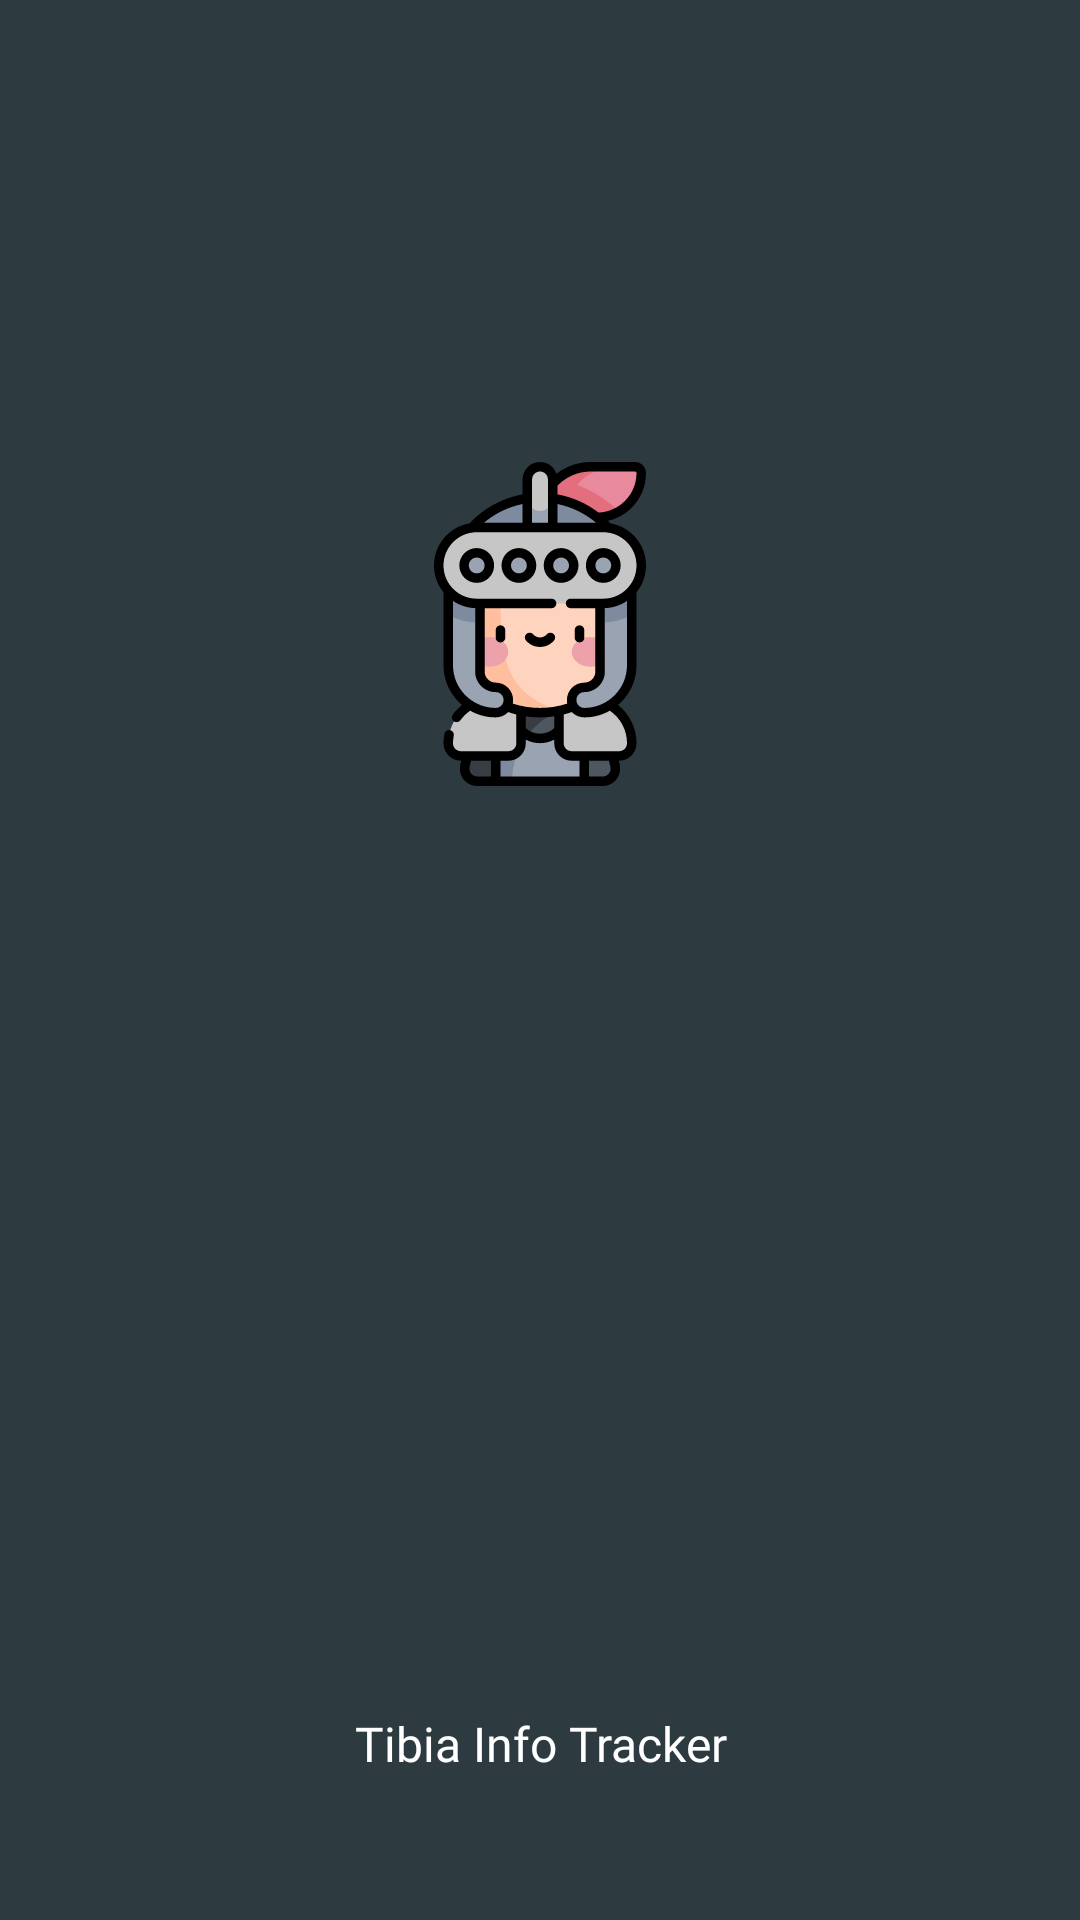

Named icons in this screenshot (1080px×1920px) and their centers, (x,y):
character: (540,624)
